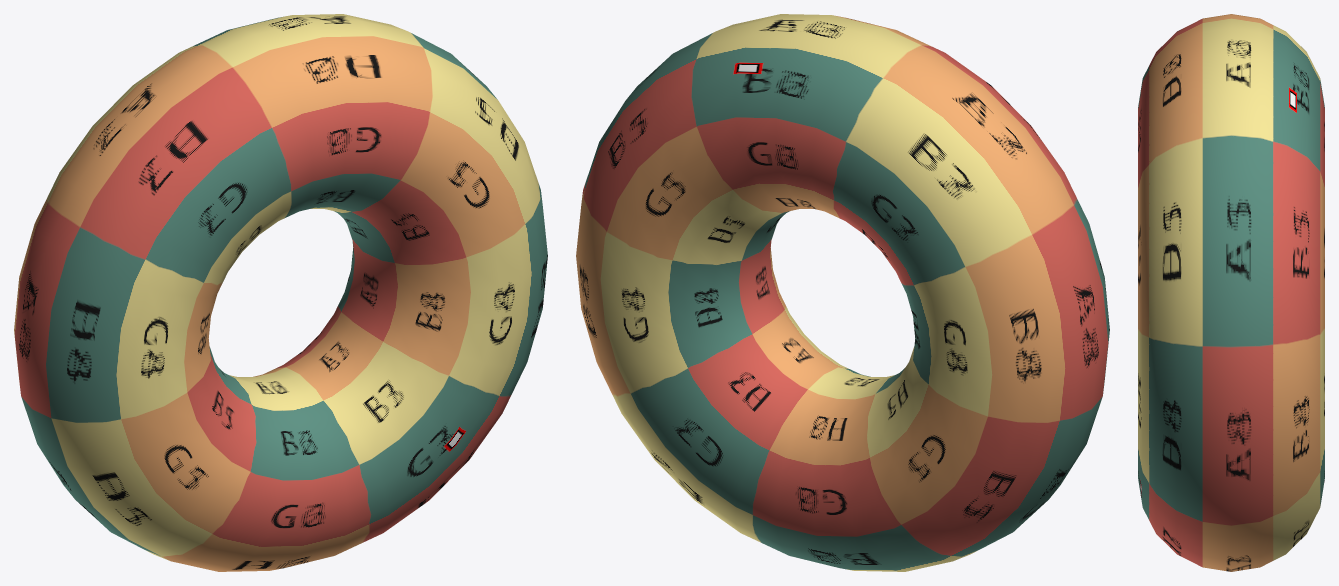
File: uv_checkerboard_res_1024_iter_384_cat_map.obj
The picture shows the model from 3 angles, left to right: view 1: azimuth 30°, elevation 25°; view 2: azimuth 150°, elevation 25°; view 3: azimuth 270°, elevation 25°; orthographic projection. The views are drawn at different scales.
Bounding box in the file's own units: 3 × 2.98 × 1.
